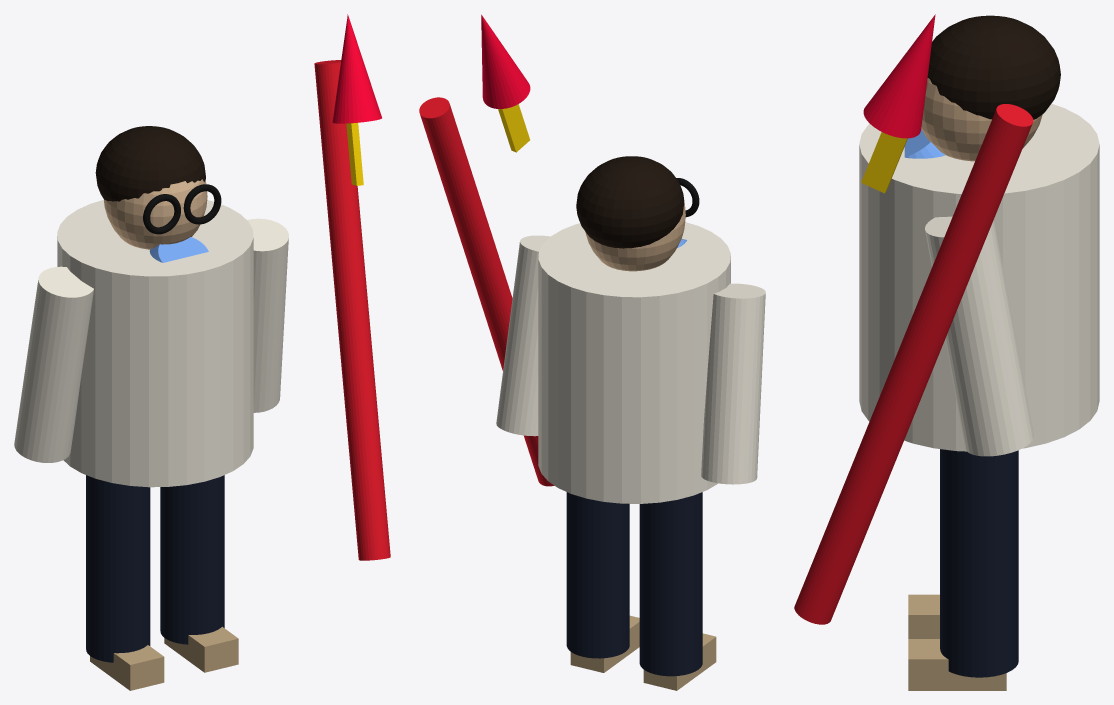
File: prof_boss.obj
3 views of the same model, side by side, from view 1: azimuth 30°, elevation 25°; view 2: azimuth 150°, elevation 25°; view 3: azimuth 270°, elevation 25° (orthographic). The views are drawn at different scales.
Visible parts, largest first — view 1: Prof_Torso, Prof_ColossalPen, Prof_LegL, Prof_ArmL, Prof_LegR, Prof_Hair, Prof_ArmR, Prof_Head, Prof_PenNib, Prof_ShoeL, Prof_ShoeR, Prof_Collar (+3 smaller); view 2: Prof_Torso, Prof_LegL, Prof_ArmL, Prof_LegR, Prof_ColossalPen, Prof_Hair, Prof_ArmR, Prof_PenNib, Prof_Head, Prof_ShoeL, Prof_ShoeR, Cube; view 3: Prof_Torso, Prof_ColossalPen, Prof_LegR, Prof_ArmR, Prof_Hair, Prof_PenNib, Prof_Head, Prof_ShoeR, Cube, Prof_ShoeL, Prof_Collar.
Boxes of the visible parts, <box> form: Prof_Torso: <box>57,199,253,487</box>; Prof_ColossalPen: <box>314,60,390,560</box>; Prof_LegL: <box>86,475,150,662</box>; Prof_ArmL: <box>14,266,93,462</box>; Prof_LegR: <box>160,475,224,644</box>; Prof_Hair: <box>95,126,205,201</box>; Prof_ArmR: <box>247,218,288,412</box>; Prof_Head: <box>104,179,207,249</box>; Prof_PenNib: <box>332,14,381,123</box>; Prof_ShoeL: <box>90,645,164,690</box>; Prof_ShoeR: <box>164,626,238,672</box>; Prof_Collar: <box>149,237,208,262</box>; Prof_Torso: <box>538,222,730,503</box>; Prof_LegL: <box>639,492,702,676</box>; Prof_ArmL: <box>701,283,765,484</box>; Prof_LegR: <box>566,492,629,658</box>; Prof_ColossalPen: <box>419,97,554,486</box>; Prof_Hair: <box>576,156,684,248</box>; Prof_ArmR: <box>496,235,550,436</box>; Prof_PenNib: <box>481,14,530,108</box>; Prof_Head: <box>585,203,685,271</box>; Prof_ShoeL: <box>643,633,716,690</box>; Prof_ShoeR: <box>570,615,639,672</box>; Cube: <box>498,104,529,152</box>; Prof_Torso: <box>859,103,1099,451</box>; Prof_ColossalPen: <box>794,104,1033,624</box>; Prof_LegR: <box>940,449,1018,677</box>; Prof_ArmR: <box>925,216,1033,456</box>; Prof_Hair: <box>927,15,1060,119</box>; Prof_PenNib: <box>863,14,935,138</box>; Prof_Head: <box>921,78,1042,161</box>; Prof_ShoeR: <box>908,639,1006,690</box>; Cube: <box>861,132,907,193</box>; Prof_ShoeL: <box>908,594,939,638</box>; Prof_Collar: <box>904,129,945,158</box>.
Bounding box in the file's own units: 2.15 × 3.78 × 1.4.
